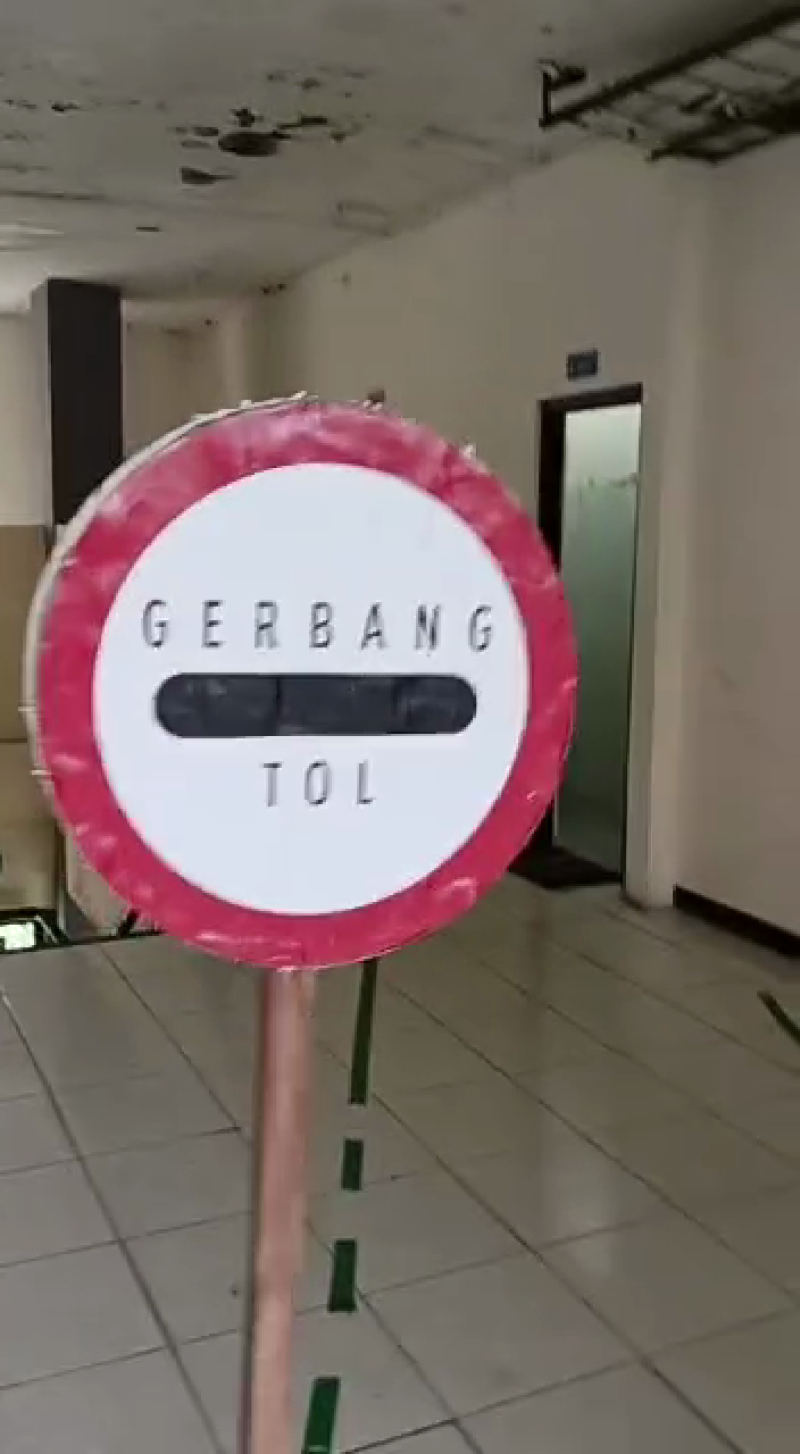gerbang tol: (18, 396, 581, 992)
